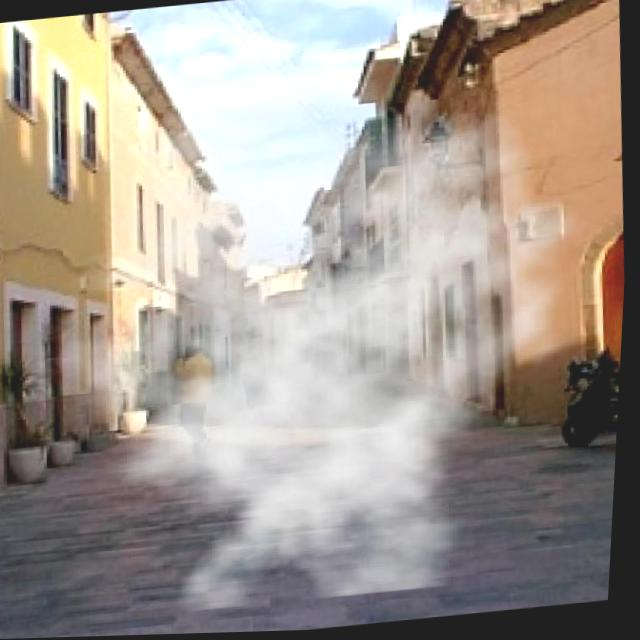Smoke: (16, 22, 595, 627)
